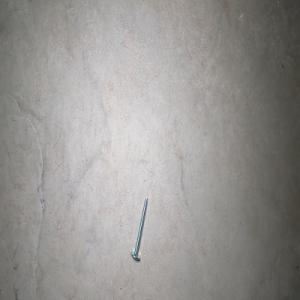Bolt: (130, 196, 148, 260)
